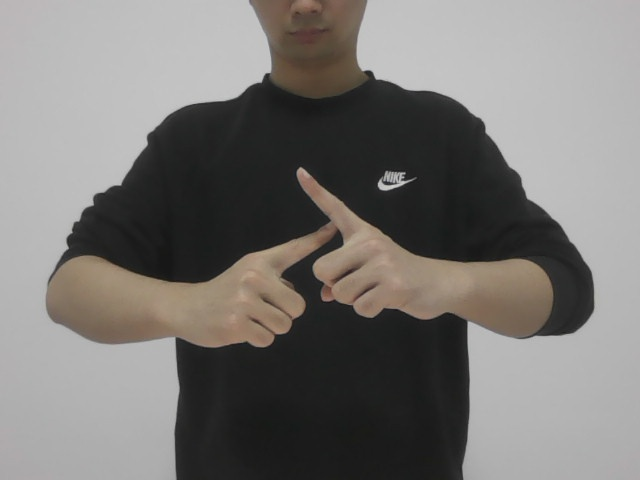peason: (215, 162, 421, 351)
